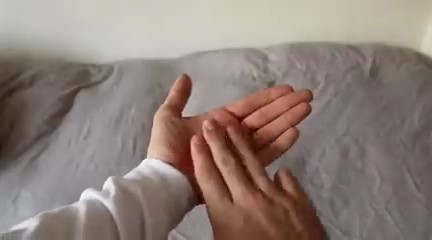M: (141, 67, 342, 240)
